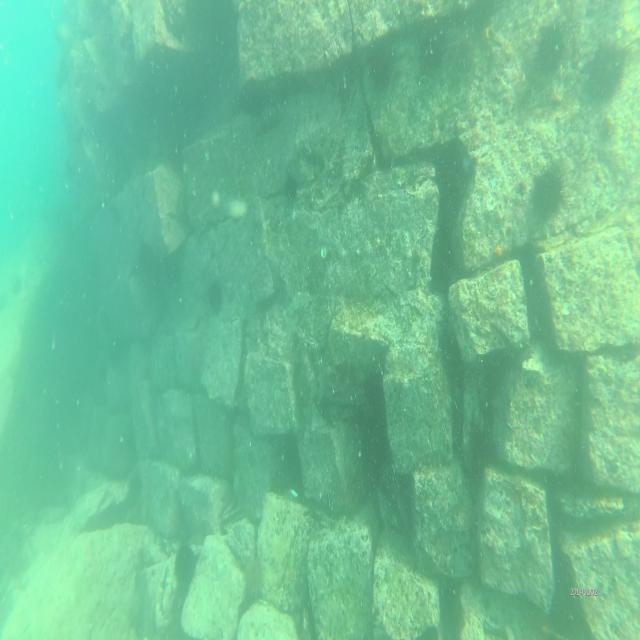echinus: (587, 35, 619, 102), (529, 166, 562, 218), (534, 19, 564, 71), (366, 49, 390, 93), (414, 33, 440, 70), (170, 547, 197, 581), (282, 173, 302, 211), (206, 281, 224, 315)
